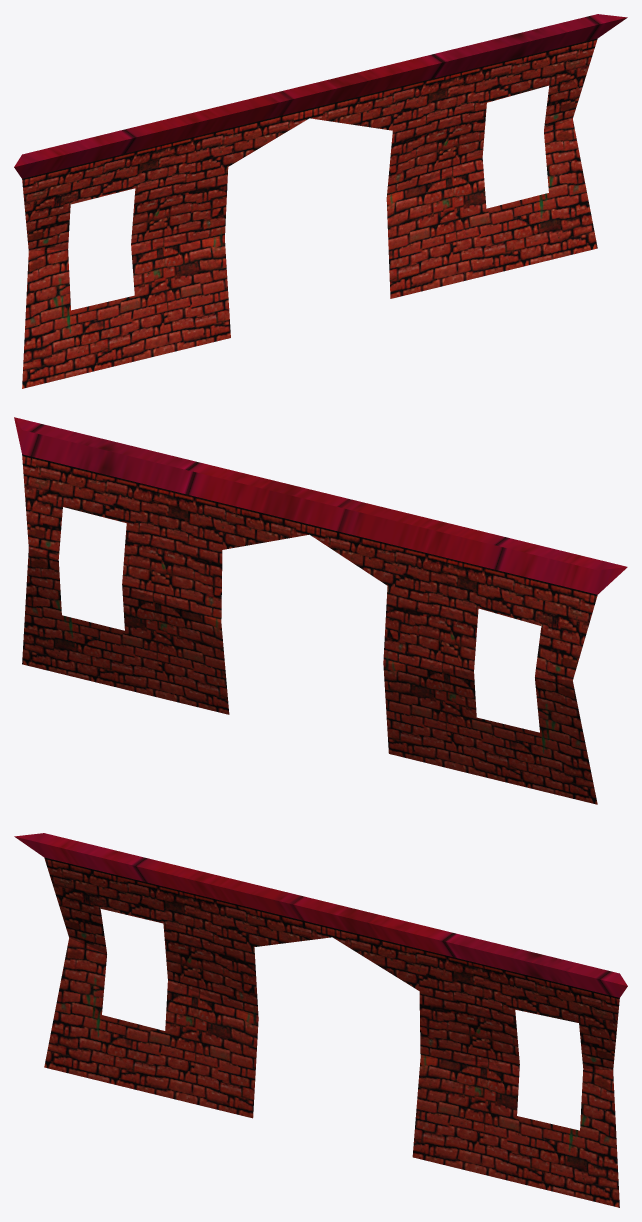
File: W_A1_fof_1719.glb
3 views of the same model, one above another, from view 1: azimuth 30°, elevation 25°; view 2: azimuth 150°, elevation 25°; view 3: azimuth 330°, elevation 25° (orthographic).
Visible parts, largest first — view 1: polySurfaceShape907, polySurfaceShape1057; view 2: polySurfaceShape907, polySurfaceShape1057; view 3: polySurfaceShape907, polySurfaceShape1057.
Part boxes in pixels (bbox=[...]): polySurfaceShape907: bbox=[22, 38, 597, 388]; polySurfaceShape1057: bbox=[14, 14, 627, 178]; polySurfaceShape907: bbox=[22, 454, 597, 804]; polySurfaceShape1057: bbox=[14, 417, 627, 594]; polySurfaceShape907: bbox=[44, 857, 619, 1207]; polySurfaceShape1057: bbox=[14, 833, 627, 997].
Bounding box in the file's own units: 1.07 × 0.3891 × 0.0607.
Materials: 2 (2 with a texture image).
